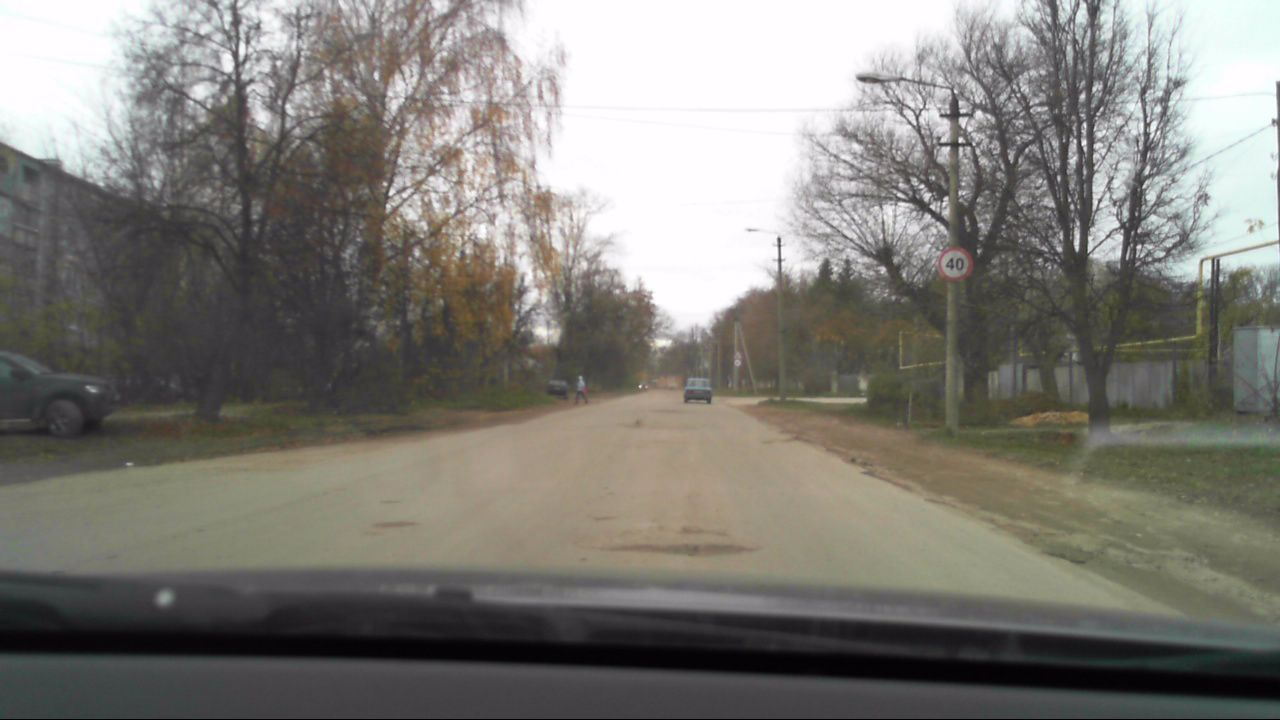speed_warning_40: (938, 247, 974, 281)
